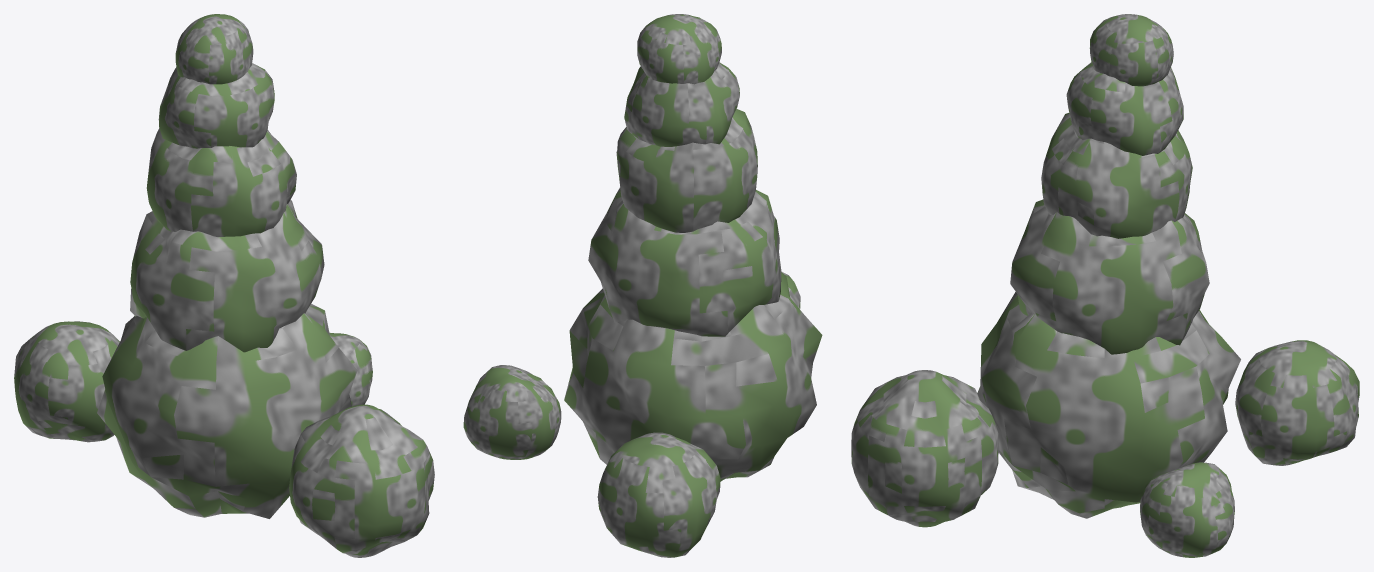
The model's file is RiverStones.glb.
The picture shows the model from 3 angles, left to right: view 1: azimuth 30°, elevation 25°; view 2: azimuth 150°, elevation 25°; view 3: azimuth 270°, elevation 25°; orthographic projection. The views are drawn at different scales.
Parts seen in each view (by area): view 1: RiverStones; view 2: RiverStones; view 3: RiverStones.
Boxes of the visible parts, x1,y1,x2,y2 form: RiverStones: [14, 14, 434, 557]; RiverStones: [463, 14, 822, 557]; RiverStones: [851, 14, 1359, 557].
Size of the model in its own units: 2.49 by 3.87 by 3.68.
1 material, 1 textured.
